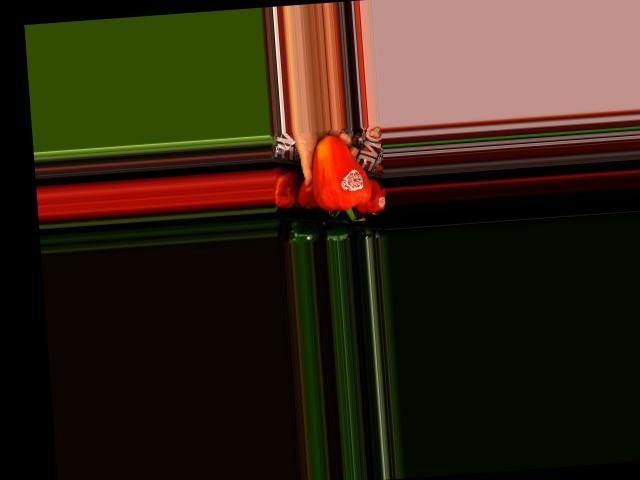bell_pepper: (302, 133, 375, 225)
